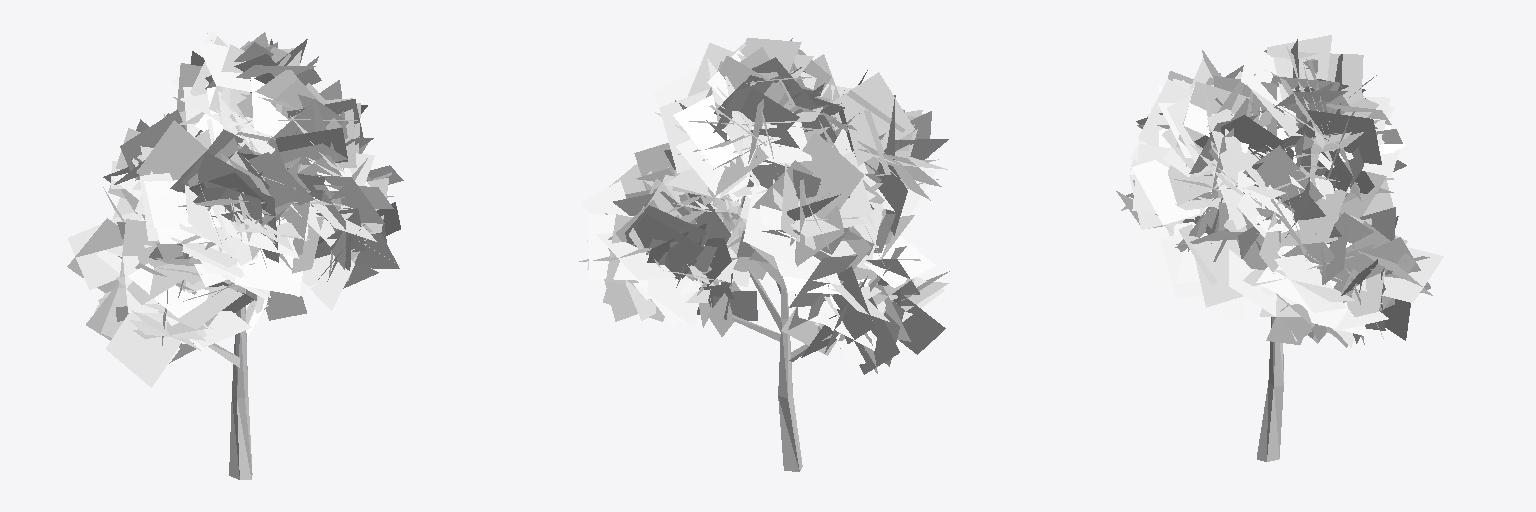
Rendered from tree1.obj.
The picture shows the model from 3 angles: view 1: azimuth 30°, elevation 25°; view 2: azimuth 150°, elevation 25°; view 3: azimuth 270°, elevation 25°; orthographic projection.
Visible parts, largest first — view 1: trunk; view 2: trunk; view 3: trunk.
Part boxes in pixels (left/top/right/bottom): trunk: left=67, top=32, right=403, bottom=479; trunk: left=579, top=38, right=949, bottom=471; trunk: left=1116, top=35, right=1443, bottom=461.
Size of the model in its own units: 16.79 by 20.61 by 14.53.